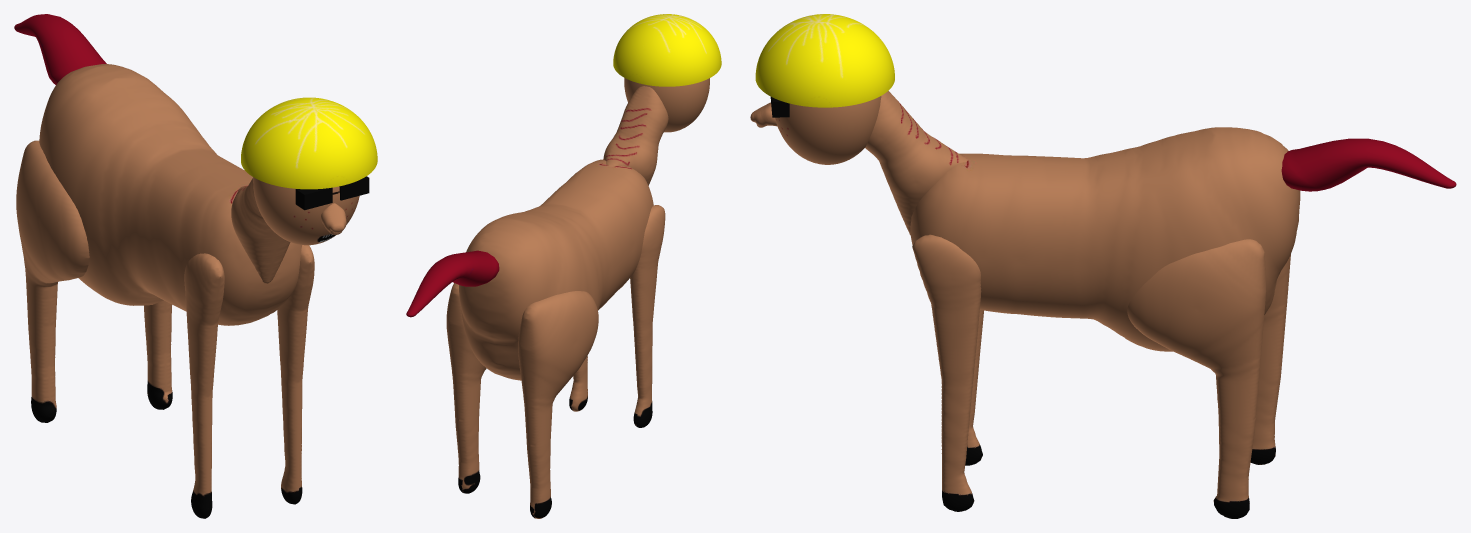
File: HorseBoyMan.fbx
3 views of the same model, side by side, from view 1: azimuth 30°, elevation 25°; view 2: azimuth 150°, elevation 25°; view 3: azimuth 270°, elevation 25° (orthographic). The views are drawn at different scales.
Visible parts, largest first — view 1: node_id46, node_id36, node_id32, node_id38, node_id40, node_id30, node_id34, node_id44, node_id42, node_id48, node_id52, node_id50; view 2: node_id46, node_id36, node_id32, node_id42, node_id38, node_id44, node_id34, node_id30, node_id40; view 3: node_id46, node_id42, node_id32, node_id40, node_id44, node_id34, node_id30, node_id36, node_id38.
Boxes of the visible parts, <box> form: node_id46: <box>39,64,301,325</box>; node_id36: <box>16,140,89,422</box>; node_id32: <box>241,97,377,189</box>; node_id38: <box>184,253,224,518</box>; node_id40: <box>277,245,314,504</box>; node_id30: <box>253,177,359,245</box>; node_id34: <box>14,14,106,84</box>; node_id44: <box>231,178,290,283</box>; node_id42: <box>144,300,172,409</box>; node_id48: <box>295,187,332,210</box>; node_id52: <box>321,203,346,234</box>; node_id50: <box>339,176,369,200</box>; node_id46: <box>459,159,653,380</box>; node_id36: <box>518,291,598,518</box>; node_id32: <box>613,14,721,86</box>; node_id42: <box>446,283,486,493</box>; node_id38: <box>630,205,665,427</box>; node_id44: <box>603,86,668,185</box>; node_id34: <box>406,250,499,317</box>; node_id30: <box>624,78,709,132</box>; node_id40: <box>569,356,587,411</box>; node_id46: <box>910,127,1300,351</box>; node_id42: <box>1127,239,1266,518</box>; node_id32: <box>755,14,894,107</box>; node_id40: <box>912,234,981,511</box>; node_id44: <box>865,91,968,234</box>; node_id34: <box>1281,138,1456,191</box>; node_id30: <box>775,96,881,164</box>; node_id36: <box>1250,254,1290,464</box>; node_id38: <box>965,310,983,465</box>.
Bounding box in the file's own units: 0.1828 × 0.512 × 0.6948.
Materials: 12 (12 with a texture image).
